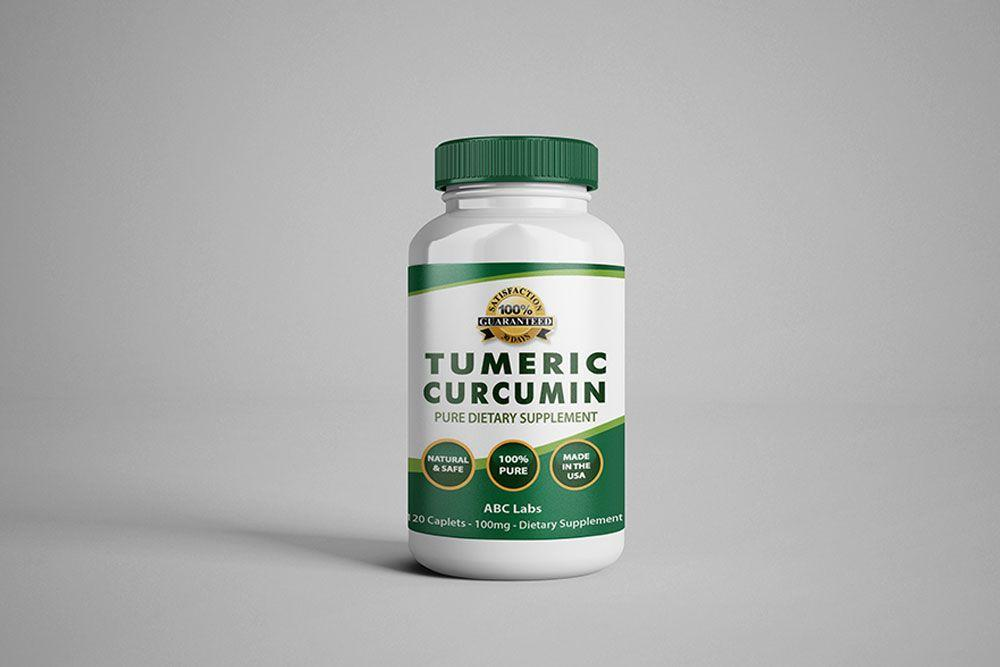jar: (401, 136, 627, 584)
